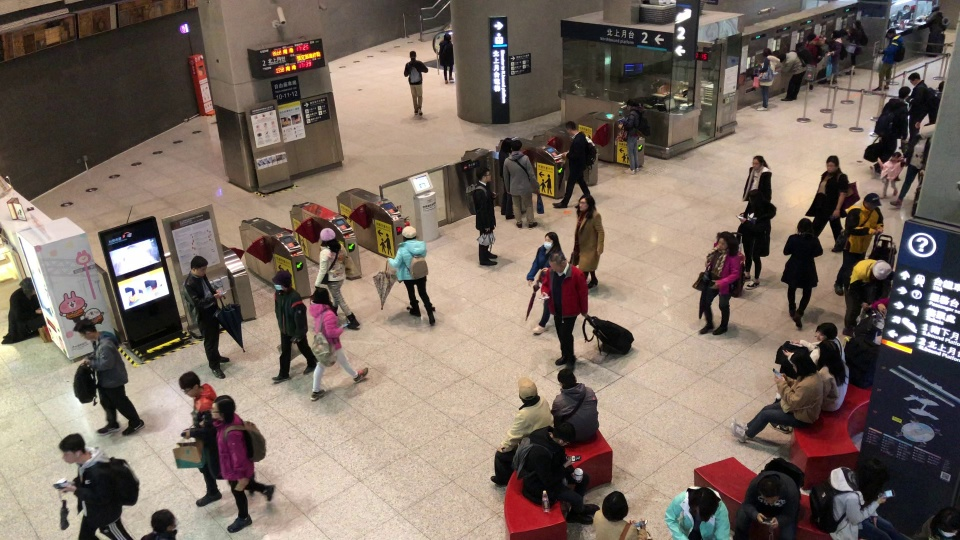person_head: (858, 455, 891, 496), (58, 433, 86, 464), (602, 490, 629, 522), (788, 351, 816, 379), (210, 394, 236, 420), (758, 475, 781, 504), (150, 510, 176, 535), (178, 370, 201, 398), (692, 489, 715, 516), (817, 340, 841, 364), (72, 318, 97, 341), (553, 422, 576, 446), (938, 510, 959, 536), (517, 376, 537, 403), (189, 254, 209, 276), (814, 322, 837, 340), (272, 270, 292, 290), (872, 260, 892, 280), (548, 251, 567, 271), (557, 368, 577, 387), (862, 192, 882, 210), (320, 228, 337, 247), (312, 287, 330, 304), (578, 193, 595, 211), (717, 231, 733, 250), (543, 231, 559, 249), (796, 217, 813, 233), (401, 226, 417, 242), (475, 166, 491, 182), (748, 189, 764, 205), (20, 277, 34, 295), (826, 154, 839, 173), (751, 155, 765, 169), (500, 137, 512, 153), (565, 120, 577, 135), (898, 85, 910, 99), (907, 72, 920, 84), (510, 139, 522, 151), (626, 98, 638, 109), (806, 31, 816, 42), (886, 27, 896, 38), (892, 151, 901, 162), (830, 30, 841, 38), (762, 47, 771, 56), (852, 19, 861, 28), (931, 2, 940, 11), (409, 50, 417, 60), (778, 52, 786, 61), (443, 33, 451, 40)
person_vbox: (209, 393, 276, 535), (510, 421, 600, 526), (57, 432, 140, 540), (728, 351, 824, 441), (72, 317, 145, 435), (809, 455, 908, 540), (768, 340, 849, 432), (490, 375, 555, 488), (308, 287, 369, 401), (177, 370, 222, 508), (182, 254, 230, 378), (773, 322, 847, 402), (732, 458, 804, 540), (539, 252, 589, 367), (833, 193, 885, 296), (270, 270, 316, 383), (386, 226, 437, 326), (779, 217, 824, 330), (314, 227, 361, 330), (697, 231, 744, 334), (804, 155, 850, 253), (735, 189, 777, 290), (525, 231, 564, 335), (551, 120, 596, 209), (841, 259, 892, 337), (550, 368, 601, 442), (664, 485, 730, 540), (464, 166, 499, 266), (502, 138, 540, 228), (874, 84, 909, 181), (572, 193, 605, 290), (592, 489, 652, 540), (0, 277, 43, 344), (618, 96, 650, 173), (870, 28, 906, 90), (777, 46, 812, 102), (403, 49, 429, 116), (910, 507, 959, 540), (756, 47, 781, 111), (741, 155, 772, 204), (821, 31, 848, 85), (843, 20, 869, 75), (906, 72, 929, 134), (498, 137, 515, 220), (877, 152, 905, 198), (804, 31, 825, 91), (923, 1, 950, 34), (438, 33, 454, 84)
